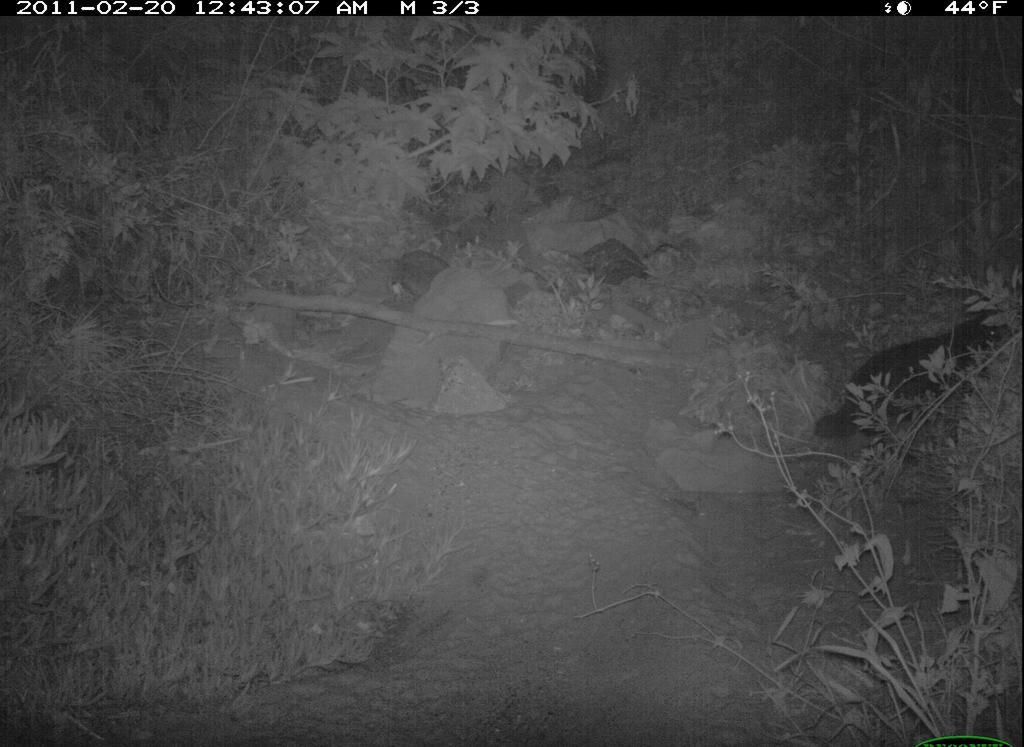cat: (812, 317, 1022, 445)
